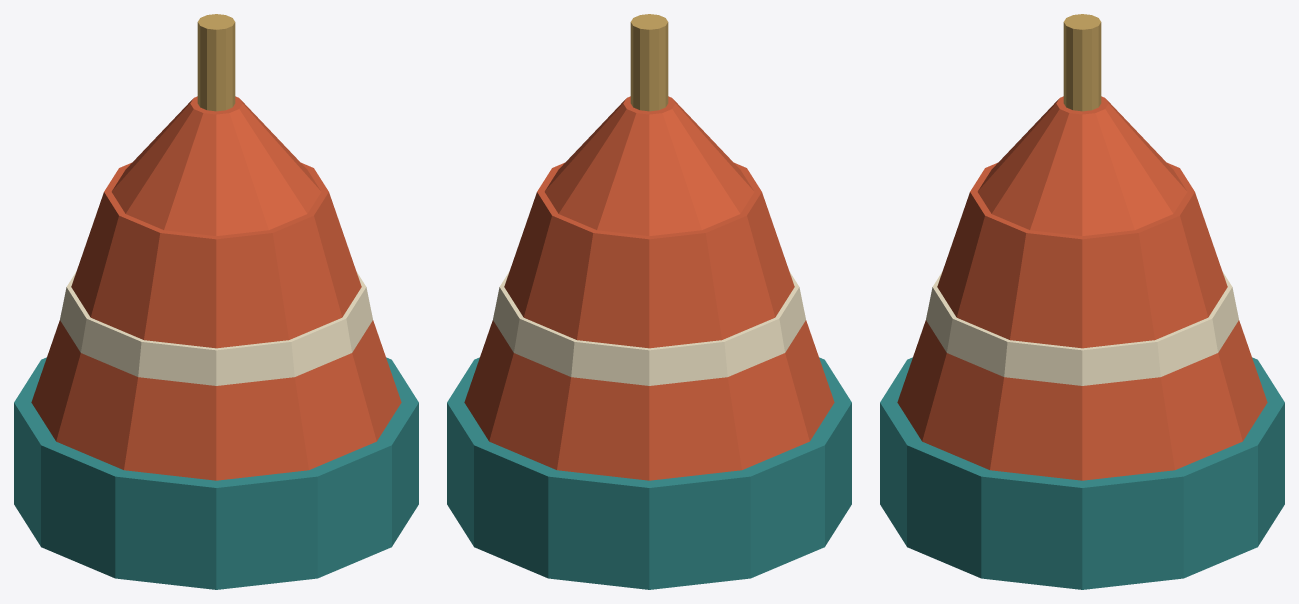
File: buoy.glb
The picture shows the model from 3 angles, left to right: view 1: azimuth 30°, elevation 25°; view 2: azimuth 150°, elevation 25°; view 3: azimuth 270°, elevation 25°; orthographic projection.
Parts seen in each view (by area): view 1: Buoy belly, Buoy base, Buoy cap, Buoy stripe, Beacon pin; view 2: Buoy belly, Buoy base, Buoy cap, Buoy stripe, Beacon pin; view 3: Buoy belly, Buoy base, Buoy cap, Buoy stripe, Beacon pin.
Boxes of the visible parts, left/top/right/bottom form: Buoy belly: left=31, top=162, right=401, bottom=480; Buoy base: left=14, top=357, right=418, bottom=589; Buoy cap: left=111, top=96, right=321, bottom=235; Buoy stripe: left=60, top=271, right=372, bottom=385; Beacon pin: left=197, top=14, right=235, bottom=111; Buoy belly: left=464, top=162, right=834, bottom=480; Buoy base: left=447, top=357, right=851, bottom=589; Buoy cap: left=544, top=96, right=754, bottom=235; Buoy stripe: left=493, top=271, right=805, bottom=385; Beacon pin: left=630, top=14, right=668, bottom=111; Buoy belly: left=897, top=162, right=1267, bottom=480; Buoy base: left=880, top=357, right=1284, bottom=589; Buoy cap: left=977, top=96, right=1187, bottom=235; Buoy stripe: left=926, top=271, right=1238, bottom=385; Beacon pin: left=1063, top=14, right=1101, bottom=111.
Size of the model in its own units: 0.54 by 0.71 by 0.54.
